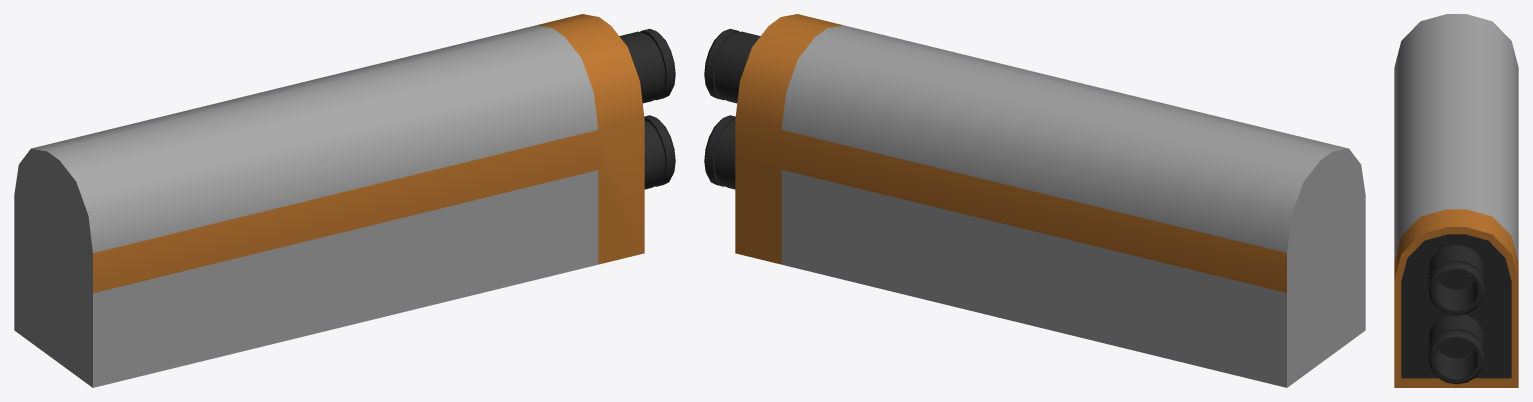
Rendered from quaternius-modular-sci-fi-guns-barrel-pistol-2.glb.
The picture shows the model from 3 angles, left to right: view 1: azimuth 30°, elevation 25°; view 2: azimuth 150°, elevation 25°; view 3: azimuth 270°, elevation 25°; orthographic projection. The views are drawn at different scales.
Parts seen in each view (by area): view 1: Barrel_Pistol_2; view 2: Barrel_Pistol_2; view 3: Barrel_Pistol_2.
Boxes of the visible parts, <box> form: Barrel_Pistol_2: <box>14,14,675,387</box>; Barrel_Pistol_2: <box>704,14,1365,387</box>; Barrel_Pistol_2: <box>1394,14,1518,387</box>.
Size of the model in its own units: 0.4197 by 0.1345 by 0.0944.
